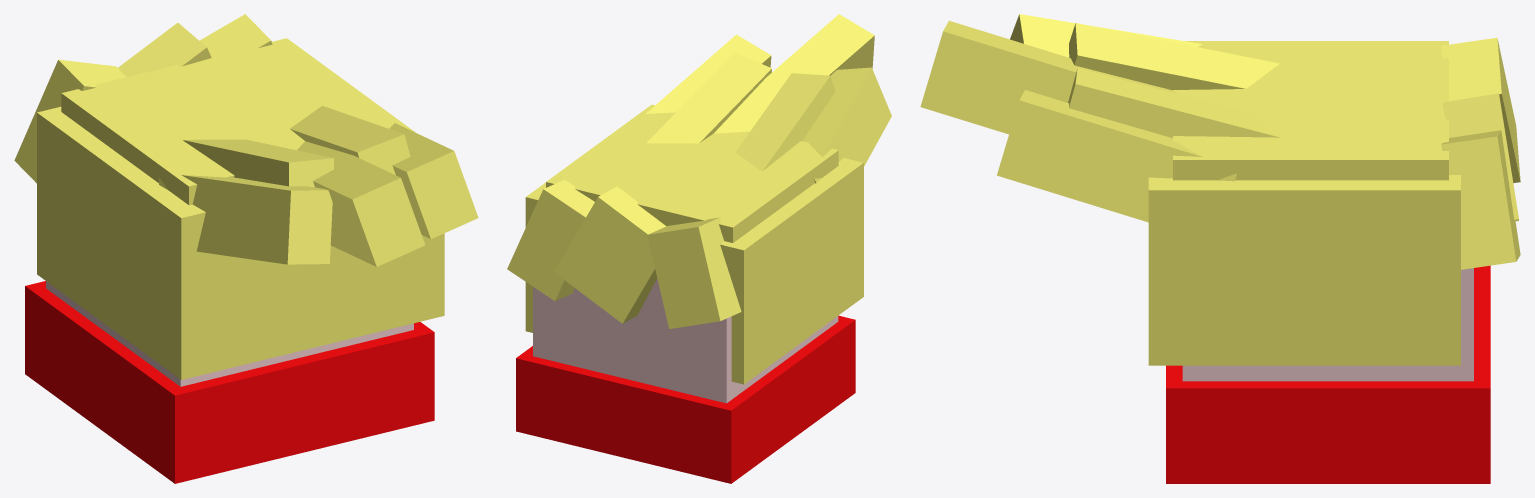
The model's file is Man5.fbx.
The picture shows the model from 3 angles, left to right: view 1: azimuth 30°, elevation 25°; view 2: azimuth 150°, elevation 25°; view 3: azimuth 270°, elevation 25°; orthographic projection. The views are drawn at different scales.
Parts seen in each view (by area): view 1: Cube.053; view 2: Cube.053; view 3: Cube.053.
Boxes of the visible parts, <box> form: Cube.053: <box>14,14,478,483</box>; Cube.053: <box>507,14,891,483</box>; Cube.053: <box>920,14,1520,483</box>.
Bounding box in the file's own units: 226 × 288 × 412.
